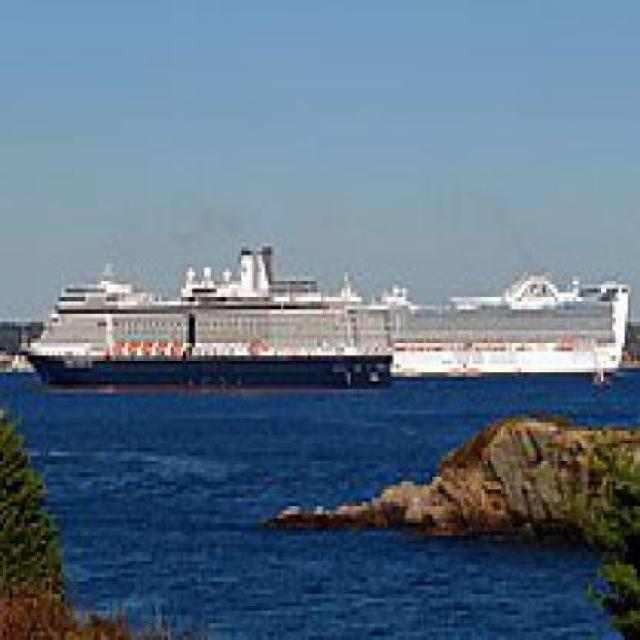cruise: (19, 227, 406, 403)
